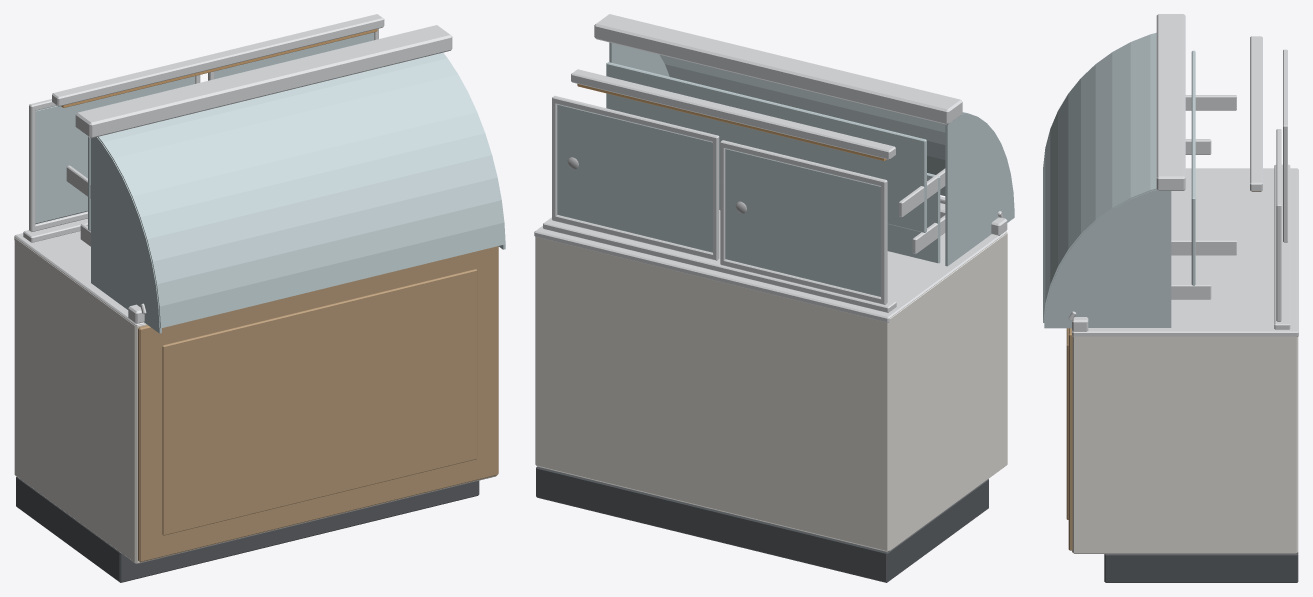
File: bakery-and-cafe-pastry-case-curved-6d0166af__22151.glb
3 renders of one model, left to right at view 1: azimuth 30°, elevation 25°; view 2: azimuth 150°, elevation 25°; view 3: azimuth 270°, elevation 25°, orthographic. The views are drawn at different scales.
Visible parts, largest first — view 1: pastry-case-curved, sliding-door-1 (×2), sliding-door-2; view 2: pastry-case-curved, sliding-door-2 (×2), sliding-door-1 (×2); view 3: pastry-case-curved, sliding-door-2, sliding-door-1.
Part boxes in pixels (left/top/right/bottom): pastry-case-curved: left=14, top=14, right=505, bottom=582; sliding-door-1 (×2): left=29, top=75, right=200, bottom=231; sliding-door-2: left=214, top=32, right=373, bottom=78; pastry-case-curved: left=534, top=14, right=1014, bottom=582; sliding-door-2 (×2): left=552, top=95, right=719, bottom=260; sliding-door-1 (×2): left=720, top=140, right=887, bottom=304; pastry-case-curved: left=1043, top=14, right=1298, bottom=582; sliding-door-2: left=1276, top=129, right=1281, bottom=321; sliding-door-1: left=1283, top=49, right=1287, bottom=242.
Bounding box in the file's own units: 1.2 × 1.39 × 0.7908.
